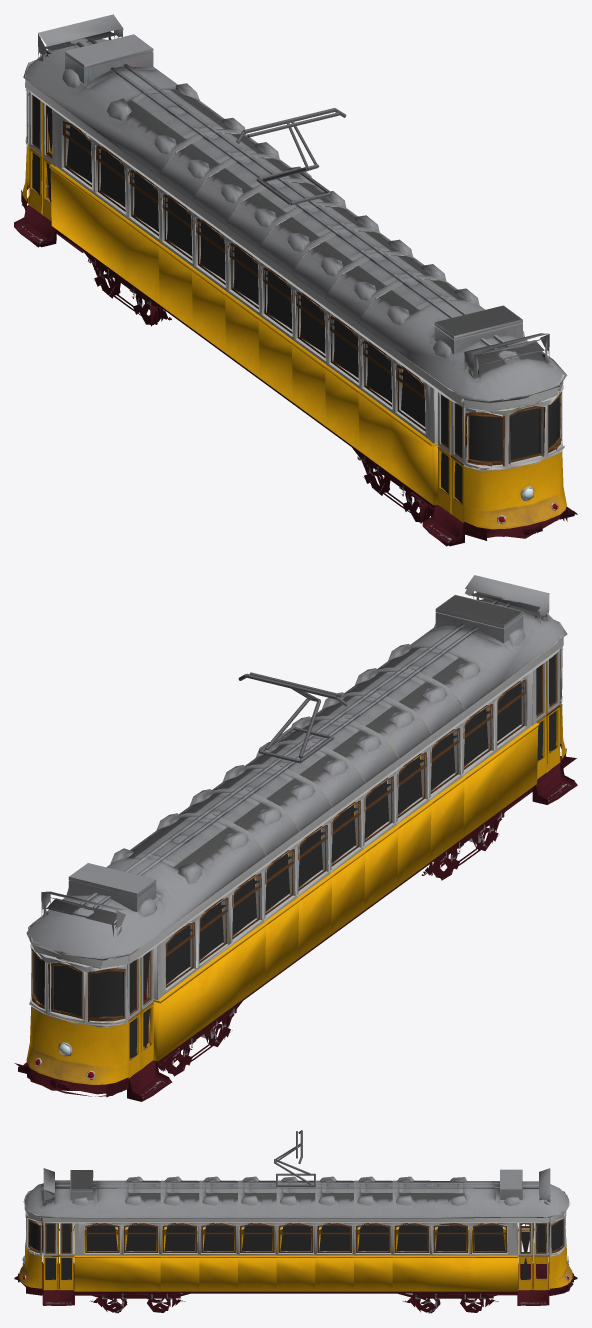
File: tram-yellow.glb
3 renders of one model, top to bottom at view 1: azimuth 30°, elevation 25°; view 2: azimuth 150°, elevation 25°; view 3: azimuth 270°, elevation 25°, orthographic. The views are drawn at different scales.
Visible parts, largest first — view 1: tram_yellow; view 2: tram_yellow; view 3: tram_yellow.
Part boxes in pixels (left/top/right/bottom): tram_yellow: left=14, top=14, right=577, bottom=546; tram_yellow: left=14, top=575, right=577, bottom=1101; tram_yellow: left=14, top=1130, right=577, bottom=1313.
Bounding box in the file's own units: 2.32 × 4.68 × 14.83.
1 material, 1 textured.
